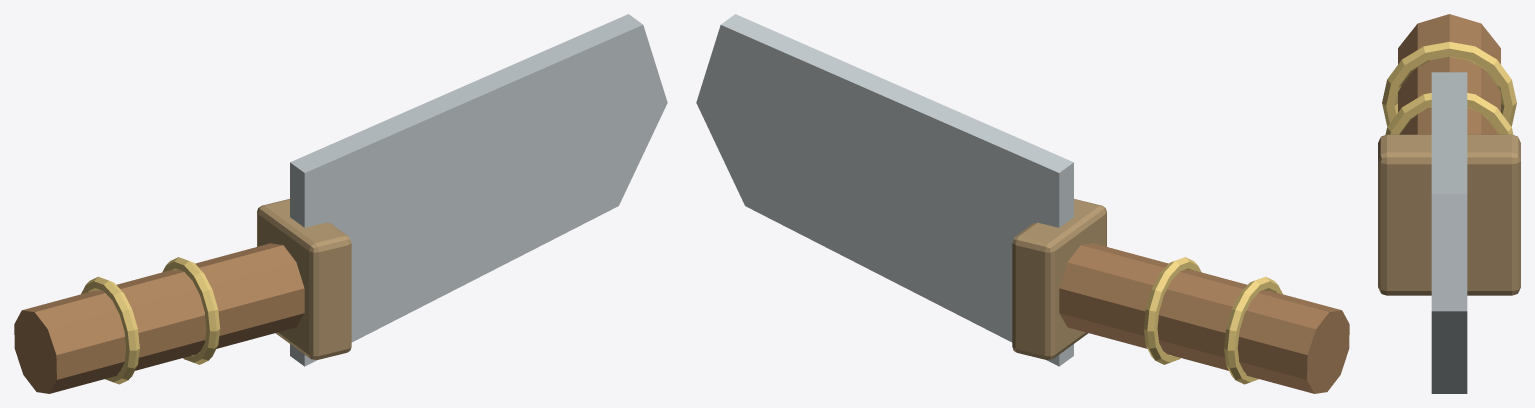
File: local_namahage_knife_prop.glb
3 views of the same model, side by side, from view 1: azimuth 30°, elevation 25°; view 2: azimuth 150°, elevation 25°; view 3: azimuth 270°, elevation 25° (orthographic). The views are drawn at different scales.
Visible parts, largest first — view 1: Blunt wooden theatrical namahage knife blade, Stage-safe carved wood dagger grip, Brass handle guard, Wooden hilt brass binding.001, Wooden hilt brass binding; view 2: Blunt wooden theatrical namahage knife blade, Stage-safe carved wood dagger grip, Brass handle guard, Wooden hilt brass binding.001, Wooden hilt brass binding; view 3: Brass handle guard, Blunt wooden theatrical namahage knife blade, Stage-safe carved wood dagger grip, Wooden hilt brass binding, Wooden hilt brass binding.001.
Boxes of the visible parts, box(x1,y1,x2,y2) form: Blunt wooden theatrical namahage knife blade: box(290, 14, 667, 366); Stage-safe carved wood dagger grip: box(14, 243, 304, 393); Brass handle guard: box(257, 199, 351, 359); Wooden hilt brass binding.001: box(162, 257, 220, 364); Wooden hilt brass binding: box(81, 276, 139, 384); Blunt wooden theatrical namahage knife blade: box(696, 14, 1073, 366); Stage-safe carved wood dagger grip: box(1059, 243, 1349, 393); Brass handle guard: box(1012, 199, 1106, 359); Wooden hilt brass binding.001: box(1143, 257, 1201, 364); Wooden hilt brass binding: box(1224, 276, 1282, 384); Brass handle guard: box(1378, 134, 1520, 295); Blunt wooden theatrical namahage knife blade: box(1431, 72, 1467, 393); Stage-safe carved wood dagger grip: box(1398, 14, 1500, 134); Wooden hilt brass binding: box(1382, 41, 1516, 126); Wooden hilt brass binding.001: box(1385, 93, 1513, 134).
Bounding box in the file's own units: 1.95 × 0.7723 × 0.3154.
